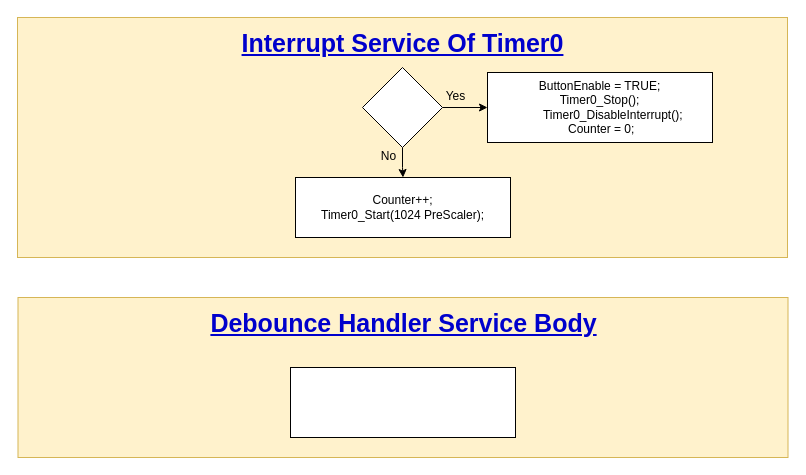
The diagram is 806 pixels wide and 475 high, and some of its shapes have lost their labels. Here are the shapes that lost their labels. From the top down, the box of each, then its label:
(362, 66, 442, 148): Counter==5
(290, 366, 516, 438): ButtonEnable = TRUE; Timer0_Start(1024 PreScaler); Timer0_EnableInterrupt();
